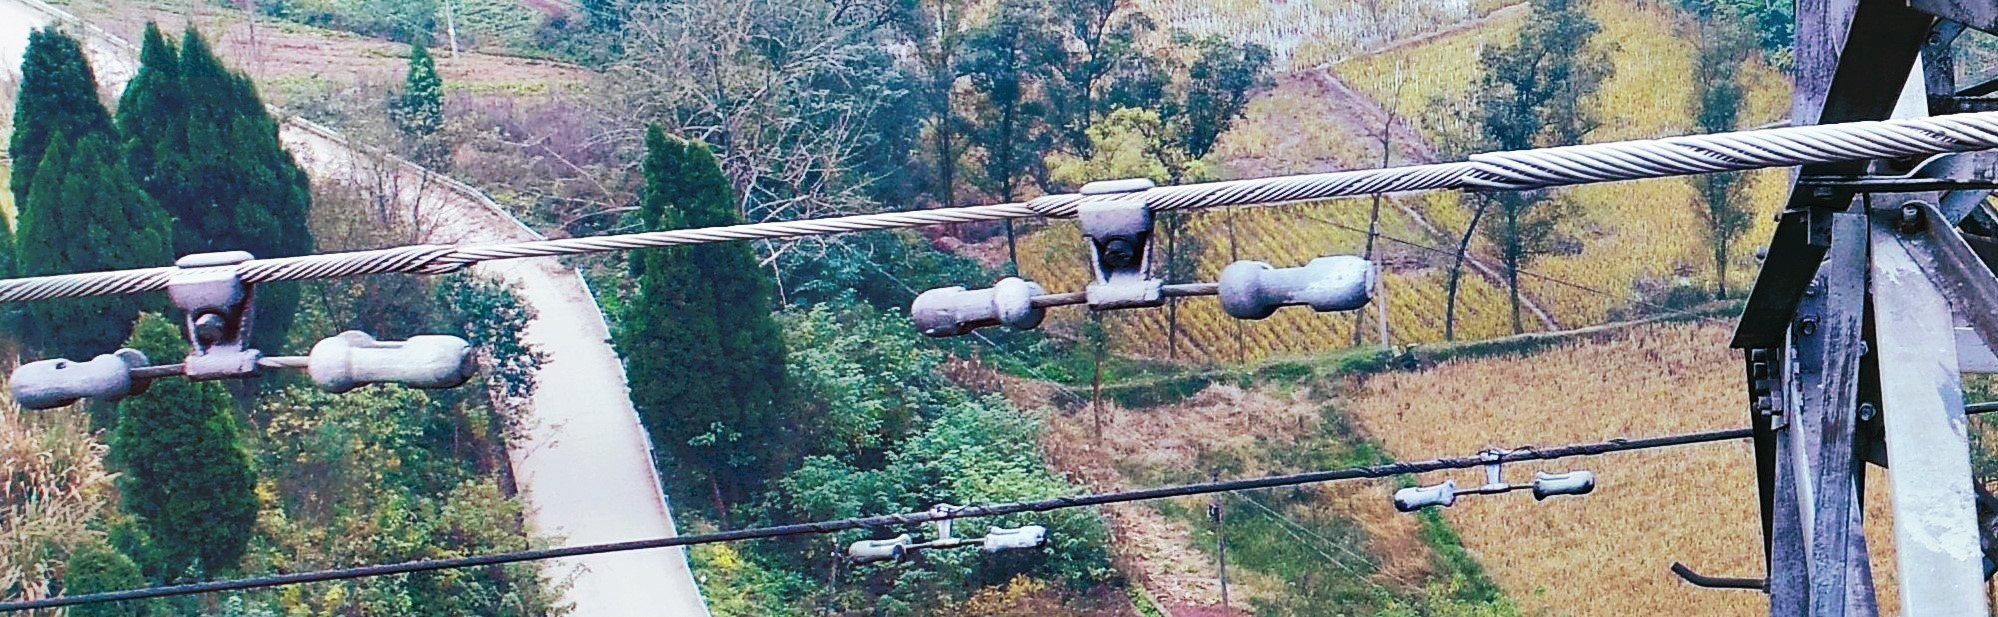Shockproof hammer: (3, 238, 477, 419), (893, 170, 1380, 345), (1384, 433, 1612, 516), (844, 486, 1058, 572)
